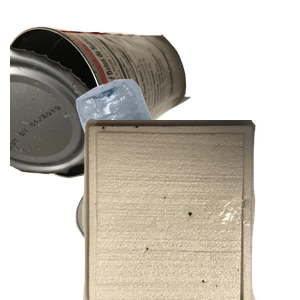glass: (73, 184, 214, 300)
metal: (10, 23, 193, 194)
plastic: (73, 76, 300, 256)
trash: (80, 120, 300, 300)
